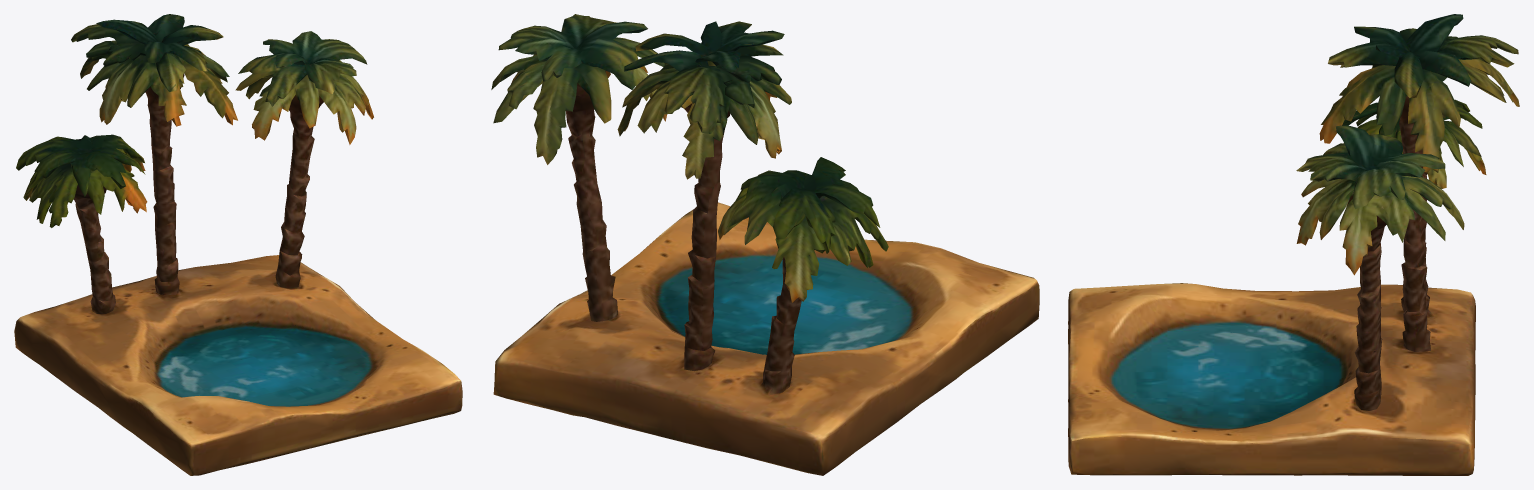
The model's file is oasis_a.glb.
The picture shows the model from 3 angles, left to right: view 1: azimuth 30°, elevation 25°; view 2: azimuth 150°, elevation 25°; view 3: azimuth 270°, elevation 25°; orthographic projection. The views are drawn at different scales.
Parts seen in each view (by area): view 1: world; view 2: world; view 3: world.
Part boxes in pixels (box(x1,y1,x2,y2)): world: box(14, 14, 462, 475); world: box(491, 14, 1039, 475); world: box(1068, 14, 1519, 475).
Size of the model in its own units: 0.938 by 0.8744 by 0.997.
Materials: 1 (1 with a texture image).
